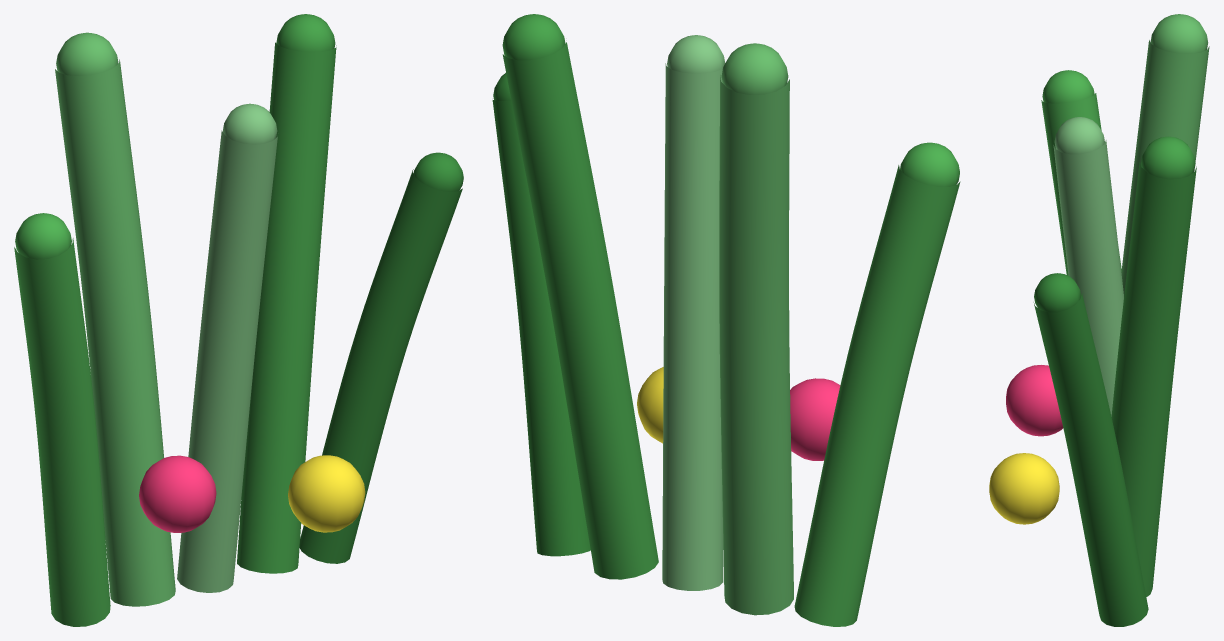
The model's file is rumput.glb.
3 renders of one model, left to right at view 1: azimuth 30°, elevation 25°; view 2: azimuth 150°, elevation 25°; view 3: azimuth 270°, elevation 25°, orthographic. The views are drawn at different scales.
Bounding box in the file's own units: 0.8427 × 1.01 × 0.398.
